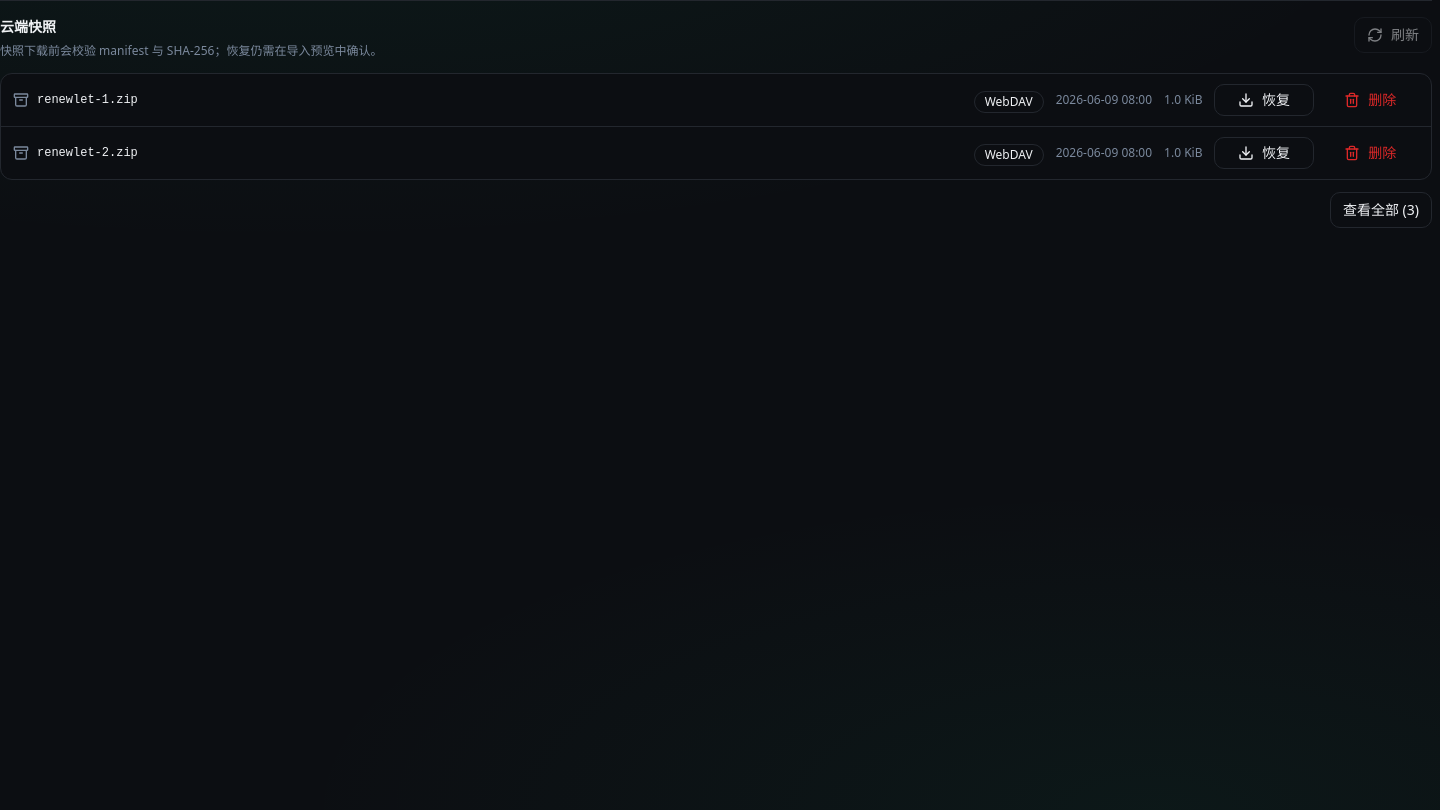
Test: CloudBackupSnapshotList › uses the same disabled and loading state for summary and full-list refresh buttons
This screenshot has width=1440, height=810.
Expected: the button "刷新" is disabled, x1=1354 y1=17 x2=1432 y2=53
Click the button "查看全部 (3)" at point(1381, 210), box x1=1330 y1=192 x2=1432 y2=228
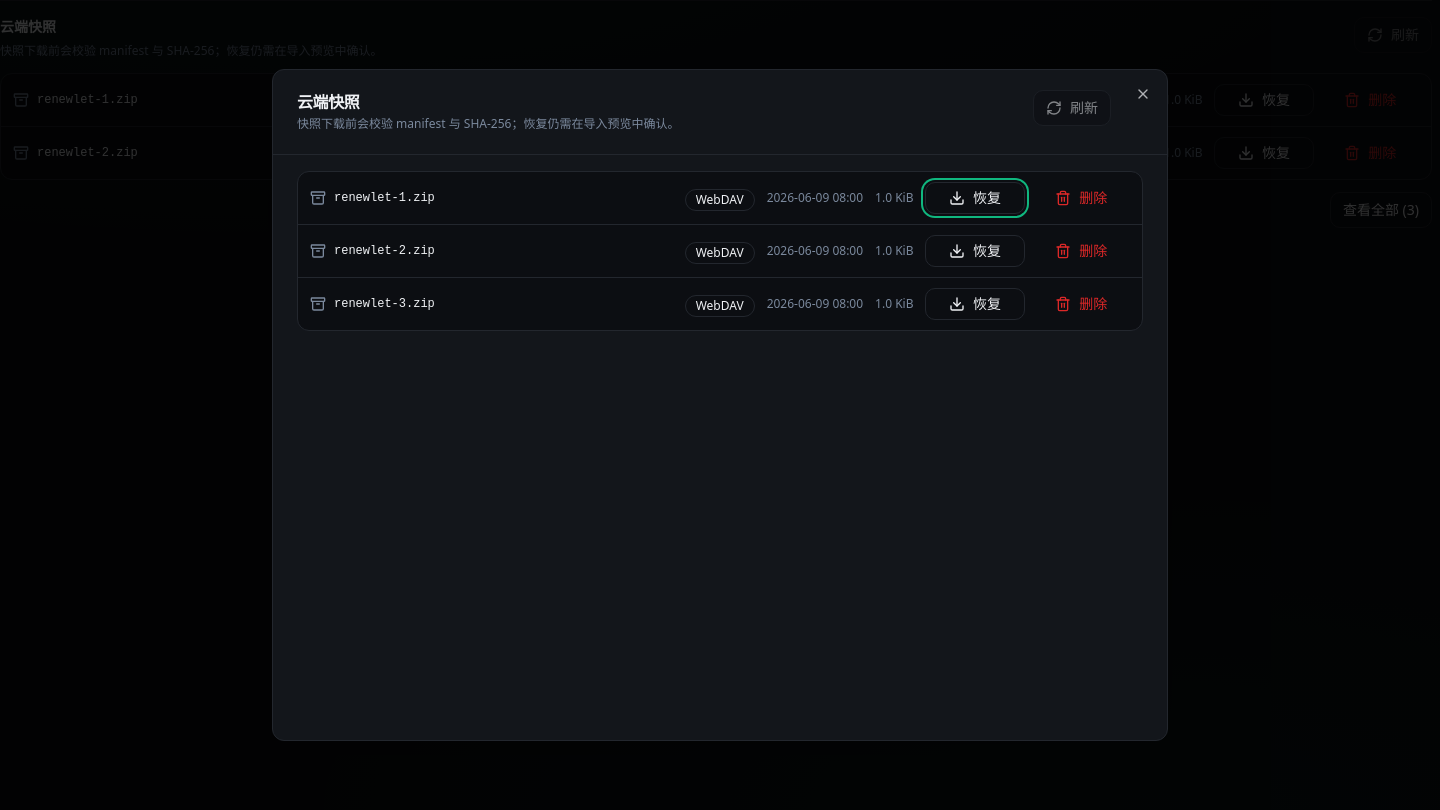
Expected: the button "刷新" is disabled, x1=1033 y1=90 x2=1111 y2=126
